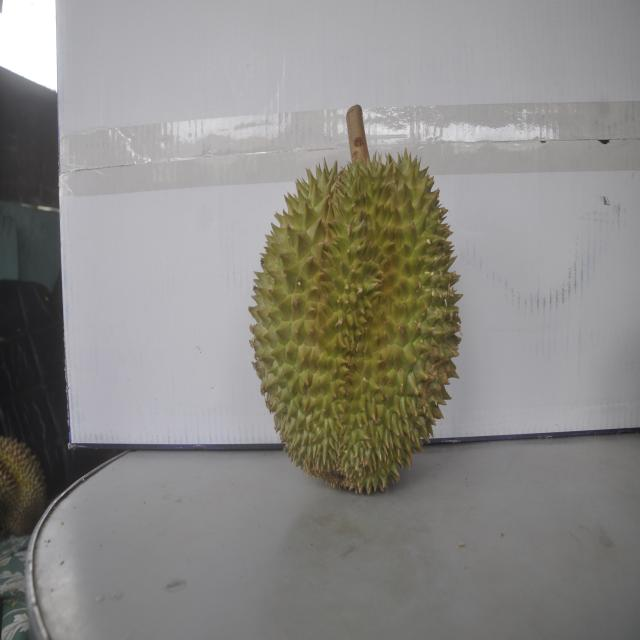mature: (251, 130, 453, 495), (1, 432, 48, 534)
